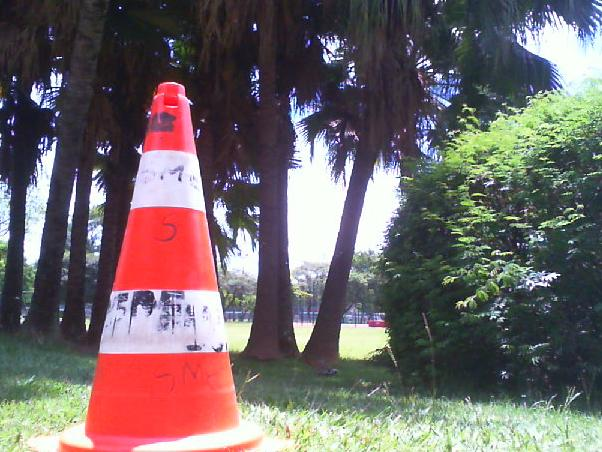0 cone: (26, 82, 296, 452)
